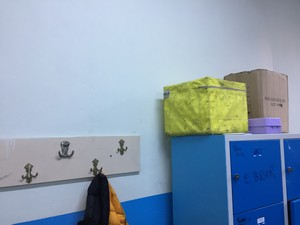cube: (161, 78, 249, 136)
